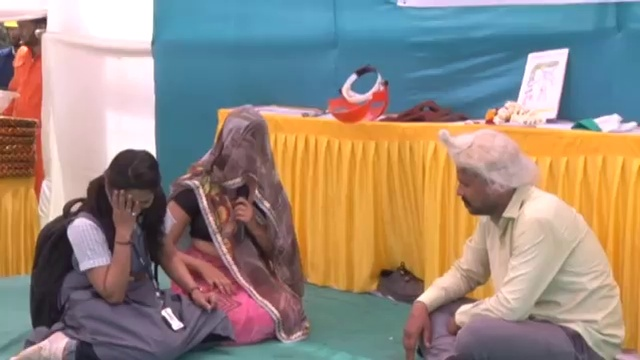helmet_off: (444, 134, 531, 223), (214, 111, 271, 180), (96, 150, 162, 207), (7, 11, 38, 46)
person: (382, 130, 635, 360), (16, 147, 192, 358), (160, 106, 307, 334), (1, 9, 44, 133)
